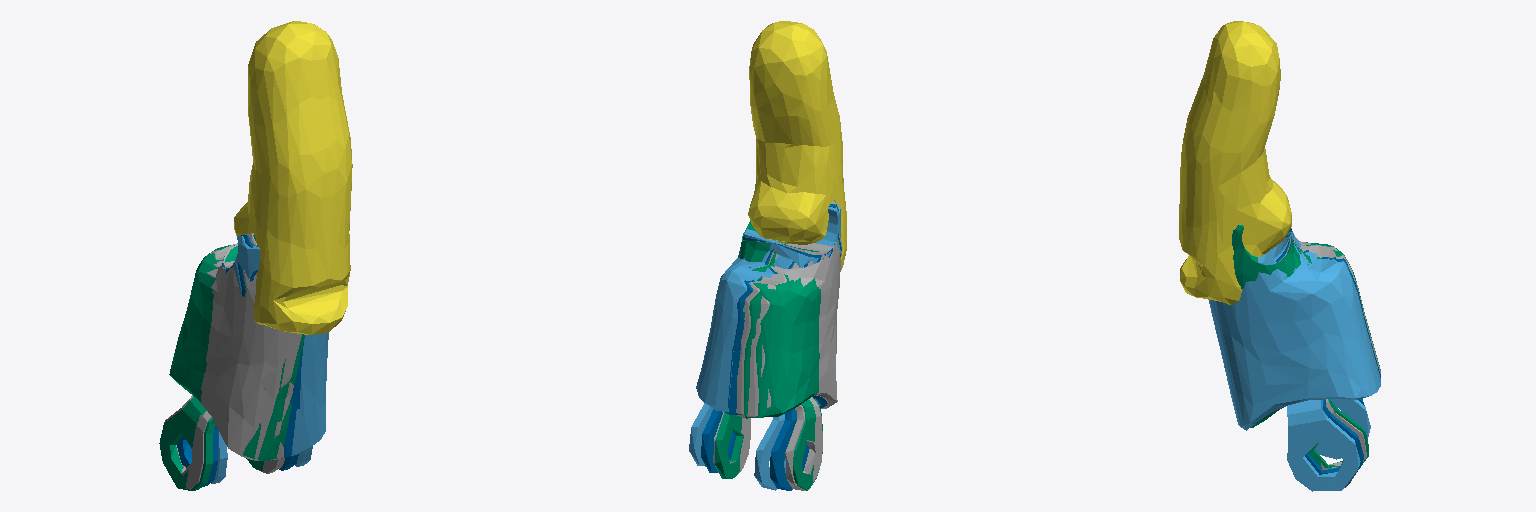
URDF robot description (ability_hand):
<?xml version="1.0" encoding="UTF-8"?>
<!--
	NOTES:
	Units:
		Distance: m
		Angles: rad (only option)
		Mass: kg
		Inertia: kg*m^2
		
	Notes on intertia:
		-The inertias are calculated for uniform density using meshes with weights.
	
	Notes on finger q2:
		-The hand is a 4 bar linkage mechanism forming an 'X'. 4 bar linkages are not supported in the 
		urdf format. The motion of the second finger joint is fully defined by the motion of the first 
		finger joint. The calculation to find the index finger second joint angle given the first is provided
		in a matlab script elsewhere in this repository.
-->
<robot name="ability_hand">
   <link name="base">
      <visual name="wrist_mesh">
         <origin rpy="0 0 0" xyz="0 0 0" />
         <geometry>
            <mesh filename="models/wristmesh.STL" />
         </geometry>
      </visual>
      <inertial>
         <mass value="0.37511000" />
         <inertia ixx="3.76723021e-04" ixy="-2.33895460e-06" ixz="6.04325119e-06" iyy="4.67706269e-04" iyz="5.04572726e-05" izz="1.77650714e-04" />
         <origin xyz="6.54520000e-04 -5.98838000e-03 5.07726500e-02" rpy="0 0 0" />
      </inertial>
      <visual name="palm_mesh">
         <origin rpy="3.14148426 -0.08848813 -3.14036612" xyz="-24.0476665e-3 3.78124745e-3 32.32964923e-3" />
         <geometry>
            <mesh filename="models/FB_palm_ref_MIR.STL" />
         </geometry>
      </visual>
      <collision name="palm_mesh_coll">
         <origin rpy="3.14148426 -0.08848813 -3.14036612" xyz="-24.0476665e-3 3.78124745e-3 32.32964923e-3" />
         <geometry>
            <mesh filename="models/palm_hull_mir.STL" />
         </geometry>
      </collision>
   </link>
   <link name="index_L1">
      <inertial>
         <mass value="0.00636000" />
         <inertia ixx="2.85169621e-07" ixy="1.21454801e-08" ixz="2.02098452e-09" iyy="9.77683041e-07" iyz="-2.87547802e-10" izz="1.05411544e-06" />
         <origin xyz="1.77549969e-02 -2.13867669e-04 -2.02851433e-05" rpy="0 0 0" />
      </inertial>
      <visual name="index_mesh_1">
         <origin rpy="0 0 0" xyz="0 0 0" />
         <geometry>
            <mesh filename="models/idx-F1.STL" />
         </geometry>
      </visual>
      <collision name="index_mesh_coll_1">
         <origin rpy="0 0 0.0844739" xyz="0.0384727 0.0032577 0" />
         <geometry>
            <mesh filename="models/idx-F1-hull.STL" />
         </geometry>
      </collision>
   </link>
   <link name="index_L2">
      <inertial>
         <mass value="0.00600000" />
         <inertia ixx="4.06340451e-07" ixy="3.99862338e-07" ixz="-1.91966414e-09" iyy="9.13745257e-07" iyz="8.96846813e-10" izz="1.13382499e-06" />
         <origin xyz="1.52723400e-02 -1.00039197e-02 -3.11063902e-05" rpy="0 0 0" />
      </inertial>
      <visual name="index_mesh_2">
         <origin rpy="0 0 0" xyz="0 0 0" />
         <geometry>
            <mesh filename="models/idx-F2-Lg.STL" />
         </geometry>
      </visual>
      <collision name="index_mesh_coll_2">
         <origin rpy="0 0 0" xyz="0.0091241 0 0" />
         <geometry>
            <mesh filename="models/idx-F2-Lg-hull.STL" />
         </geometry>
      </collision>
   </link>
   <joint name="index_q1" type="revolute">
      <parent link="base" />
      <child link="index_L1" />
      <origin xyz="-2.8e-2 -9e-3 9.6e-2" rpy=" 1.672 -1.317 -1.790 " />
      <axis xyz="0 0 1" />
      <limit lower="0.00" upper="1.74" effort="6.0" velocity="8.0677777442" />
      <dynamics damping="0.001" friction="0.001" />
   </joint>
   <joint name="index_q2" type="revolute">
      <parent link="index_L1" />
      <child link="index_L2" />
      <origin xyz="38.472723e-3 3.257695e-3 0.000000e-3" rpy="0 0 0.766" />
      <axis xyz="0 0 1" />
      <limit lower="0.00" upper="1.844" effort="6.0" velocity="8.0677777442" />
      <!-- angles in rad, efforts in N-m, velocity in rad/s -->
      <dynamics damping="0.001" friction="0.001" />
      <!-- Friction coefficient is not from quantitative measurement -->
      <mimic joint="index_q1" multiplier="1.05851325" />
   </joint>
   <link name="index_anchor" />
   <joint name="idx_anchor" type="fixed">
      <parent link="index_L2" />
      <child link="index_anchor" />
      <origin rpy="0 0 0" xyz="31.5541e-3  -10.44e-3 0.14e-3" />
   </joint>

   <link name="middle_L1">
      <inertial>
         <mass value="0.00636000" />
         <inertia ixx="2.85169621e-07" ixy="1.21454801e-08" ixz="2.02098452e-09" iyy="9.77683041e-07" iyz="-2.87547802e-10" izz="1.05411544e-06" />
         <origin xyz="1.77549969e-02 -2.13867669e-04 -2.02851433e-05" rpy="0 0 0" />
      </inertial>
      <visual name="middle_mesh_1">
         <origin rpy="0 0 0" xyz="0 0 0" />
         <geometry>
            <mesh filename="models/idx-F1.STL" />
         </geometry>
      </visual>
      <collision name="middle_mesh_coll_1">
         <origin rpy="0 0 0.0844739" xyz="0.0384727 0.0032577 0" />
         <geometry>
            <mesh filename="models/idx-F1-hull.STL" />
         </geometry>
      </collision>
   </link>
   <link name="middle_L2">
      <inertial>
         <mass value="0.00600000" />
         <inertia ixx="4.06340451e-07" ixy="3.99862338e-07" ixz="-1.91966414e-09" iyy="9.13745257e-07" iyz="8.96846813e-10" izz="1.13382499e-06" />
         <origin xyz="1.52723400e-02 -1.00039197e-02 -3.11063902e-05" rpy="0 0 0" />
      </inertial>
      <visual name="middle_mesh_2">
         <origin rpy="0 0 0" xyz="0 0 0" />
         <geometry>
            <mesh filename="models/idx-F2-Lg.STL" />
         </geometry>
      </visual>
      <collision name="middle_mesh_coll_2">
         <origin rpy="0 0 0" xyz="0.0091241 0 0" />
         <geometry>
            <mesh filename="models/idx-F2-Lg-hull.STL" />
         </geometry>
      </collision>
   </link>
   <joint name="middle_q1" type="revolute">
      <parent link="base" />
      <child link="middle_L1" />
      <origin xyz=" -0.008 -0.012 0.099 " rpy=" 1.513 -1.322 -1.558 " />
      <limit lower="0.00" upper="1.74" effort="6.0" velocity="8.0677777442" />
      <dynamics damping="0.001" friction="0.001" />
      <axis xyz="0 0 1" />
   </joint>
   <joint name="middle_q2" type="revolute">
      <parent link="middle_L1" />
      <child link="middle_L2" />
      <origin xyz="38.472723e-3 3.257695e-3 0.000000" rpy="0 0 0.766" />
      <axis xyz="0 0 1" />
      <limit lower="0.00" upper="1.844" effort="6.0" velocity="8.0677777442" />
      <!-- angles in rad, efforts in N-m, velocity in rad/s -->
      <dynamics damping="0.001" friction="0.001" />
      <!-- Friction coefficient is not from quantitative measurement -->
      <mimic joint="middle_q1" multiplier="1.05851325" />
   </joint>
   <link name="middle_anchor" />
   <joint name="mid_anchor" type="fixed">
      <parent link="middle_L2" />
      <child link="middle_anchor" />
      <origin rpy="0 0 0" xyz="31.5541e-3  -10.44e-3 0.14e-3" />
   </joint>

   <link name="ring_L1">
      <inertial>
         <mass value="0.00636000" />
         <inertia ixx="2.85169621e-07" ixy="1.21454801e-08" ixz="2.02098452e-09" iyy="9.77683041e-07" iyz="-2.87547802e-10" izz="1.05411544e-06" />
         <origin xyz="1.77549969e-02 -2.13867669e-04 -2.02851433e-05" rpy="0 0 0" />
      </inertial>
      <visual name="ring_mesh_1">
         <origin rpy="0 0 0" xyz="0 0 0" />
         <geometry>
            <mesh filename="models/idx-F1.STL" />
         </geometry>
      </visual>
      <collision name="ring_mesh_coll_1">
         <origin rpy="0 0 0.0844739" xyz="0.0384727 0.0032577 0" />
         <geometry>
            <mesh filename="models/idx-F1-hull.STL" />
         </geometry>
      </collision>
   </link>
   <link name="ring_L2">
      <inertial>
         <mass value="0.00600000" />
         <inertia ixx="4.06340451e-07" ixy="3.99862338e-07" ixz="-1.91966414e-09" iyy="9.13745257e-07" iyz="8.96846813e-10" izz="1.13382499e-06" />
         <origin xyz="1.52723400e-02 -1.00039197e-02 -3.11063902e-05" rpy="0 0 0" />
      </inertial>
      <visual name="ring_mesh_2">
         <origin rpy="0 0 0" xyz="0 0 0" />
         <geometry>
            <mesh filename="models/idx-F2-Lg.STL" />
         </geometry>
      </visual>
      <collision name="ring_mesh_coll_2">
         <origin rpy="0 0 0" xyz="0.0091241 0 0" />
         <geometry>
            <mesh filename="models/idx-F2-Lg-hull.STL" />
         </geometry>
      </collision>
   </link>
   <joint name="ring_q1" type="revolute">
      <parent link="base" />
      <child link="ring_L1" />
      <origin xyz=" 0.012 -0.010 0.097 " rpy=" 1.361 -1.315 -1.330 " />
      <limit lower="0.00" upper="1.74" effort="6.0" velocity="8.0677777442" />
      <dynamics damping="0.001" friction="0.001" />
      <axis xyz="0 0 1" />
   </joint>
   <joint name="ring_q2" type="revolute">
      <parent link="ring_L1" />
      <child link="ring_L2" />
      <origin xyz="38.472723e-3 3.257695e-3 0.000000" rpy="0 0 0.766" />
      <axis xyz="0 0 1" />
      <limit lower="0.00" upper="1.844" effort="6.0" velocity="8.0677777442" />
      <!-- angles in rad, efforts in N-m, velocity in rad/s -->
      <dynamics damping="0.001" friction="0.001" />
      <!-- Friction coefficient is not from quantitative measurement -->
      <mimic joint="ring_q1" multiplier="1.05851325" />
   </joint>
   <link name="ring_anchor" />
   <joint name="rng_anchor" type="fixed">
      <parent link="ring_L2" />
      <child link="ring_anchor" />
      <origin rpy="0 0 0" xyz="31.5541e-3  -10.44e-3 0.14e-3" />
   </joint>

   <link name="pinky_L1">
      <inertial>
         <mass value="0.00636000" />
         <inertia ixx="2.85169621e-07" ixy="1.21454801e-08" ixz="2.02098452e-09" iyy="9.77683041e-07" iyz="-2.87547802e-10" izz="1.05411544e-06" />
         <origin xyz="1.77549969e-02 -2.13867669e-04 -2.02851433e-05" rpy="0 0 0" />
      </inertial>
      <visual name="pinky_mesh_1">
         <origin rpy="0 0 0" xyz="0 0 0" />
         <geometry>
            <mesh filename="models/idx-F1.STL" />
         </geometry>
      </visual>
      <collision name="pinky_mesh_coll_1">
         <origin rpy="0 0 0.0844739" xyz="0.0384727 0.0032577 0" />
         <geometry>
            <mesh filename="models/idx-F1-hull.STL" />
         </geometry>
      </collision>
   </link>
   <link name="pinky_L2">
      <inertial>
         <mass value="0.00600000" />
         <inertia ixx="3.07970159e-07" ixy="2.80921010e-07" ixz="-2.72117073e-09" iyy="7.40775495e-07" iyz="1.08144438e-09" izz="8.93728844e-07" />
         <origin xyz="1.33249215e-02 -8.15894775e-03 -4.07689501e-05" rpy="0 0 0" />
      </inertial>
      <visual name="pinky_mesh_2">
         <origin rpy="0 0 0" xyz="0 0 0" />
         <geometry>
            <mesh filename="models/idx-F2.STL" />
         </geometry>
      </visual>
      <collision name="pinky_mesh_coll_2">
         <origin rpy="0 0 0" xyz="0.0091241 0 0" />
         <geometry>
            <mesh filename="models/idx-F2-hull.STL" />
         </geometry>
      </collision>
   </link>
   <joint name="pinky_q1" type="revolute">
      <parent link="base" />
      <child link="pinky_L1" />
      <origin xyz=" 0.031 -0.007 0.091 " rpy=" 1.410 -1.315 -1.313 " />
      <limit lower="0.00" upper="1.74" effort="6.0" velocity="8.0677777442" />
      <dynamics damping="0.001" friction="0.001" />
      <axis xyz="0 0 1" />
   </joint>
   <joint name="pinky_q2" type="revolute">
      <parent link="pinky_L1" />
      <child link="pinky_L2" />
      <origin xyz="38.472723e-3 3.257695e-3 0.000000" rpy="0 0 0.766" />
      <limit lower="0.00" upper="1.844" effort="6.0" velocity="8.0677777442" />
      <!-- angles in rad, efforts in N-m, velocity in rad/s -->
      <dynamics damping="0.001" friction="0.001" />
      <!-- Friction coefficient is not from quantitative measurement -->
      <axis xyz="0 0 1" />
      <mimic joint="pinky_q1" multiplier="1.05851325" />
   </joint>
   <link name="pinky_anchor" />
   <joint name="pnky_anchor" type="fixed">
      <parent link="pinky_L2" />
      <child link="pinky_anchor" />
      <origin rpy="0 0 0" xyz="31.5541e-3  -10.44e-3 0.14e-3" />
   </joint>

   <link name="thumb_L1">
      <inertial>
         <mass value="0.00200000" />
         <inertia ixx="1.19399127e-07" ixy="1.99799715e-08" ixz="-6.88490629e-08" iyy="2.50792788e-07" iyz="8.36717975e-09" izz="2.02280286e-07" />
         <origin xyz="1.42940200e-02 -1.88850000e-03 4.96979000e-03" rpy="0 0 0" />
      </inertial>
      <visual name="thumb_mesh_1">
         <origin rpy="0 0 0" xyz="0 0 0" />
         <geometry>
            <mesh filename="models/thumb-F1-MIR.STL" />
         </geometry>
      </visual>
      <collision name="thumb_coll_mesh_1">
         <origin rpy="1.832596 0 0" xyz="0.0278284 0 0.0147507" />
         <geometry>
            <mesh filename="models/thumb-F1-MIR-hull.STL" />
         </geometry>
      </collision>
   </link>
   <link name="thumb_L2">
      <inertial>
         <mass value="0.06000000" />
         <inertia ixx="8.10858569e-06" ixy="-7.50865328e-06" ixz="-6.23786727e-08" iyy="2.16060955e-05" iyz="-1.00037755e-07" izz="2.58546348e-05" />
         <origin xyz="2.77624500e-02 5.62171000e-03 3.76111000e-03" rpy="0 0 0" />
      </inertial>
      <visual name="thumb_mesh_2">
         <origin rpy="0 0 0" xyz="0 0 0" />
         <geometry>
            <mesh filename="models/thumb-F2-right.STL" />
         </geometry>
      </visual>
      <collision name="thumb_hull_mesh_2">
         <origin rpy="-3.141592 0 0.3438291" xyz="0.0651867 0.0233402 0.00393483" />
         <geometry>
            <mesh filename="models/thumb-F2-hull.STL" />
         </geometry>
      </collision>
   </link>
   <joint name="thumb_q1" type="revolute">
      <parent link="base" />
      <child link="thumb_L1" />
      <origin xyz="-24.0476665e-3 3.78124745e-3 32.32964923e-3" rpy="-0.01675973 -0.08689062 -2.95079797" />
      <axis xyz="0 0 1" />
      <limit lower="-1.74" upper="0" effort="1.2" velocity="40.338888721" />
      <!-- angles in rad, efforts in N-m, velocity in rad/s -->
      <dynamics damping="0.001" friction="0.001" />
      <!-- Friction coefficient is not from quantitative measurement -->
   </joint>
   <joint name="thumb_q2" type="revolute">
      <parent link="thumb_L1" />
      <child link="thumb_L2" />
      <origin xyz=" 27.8283501e-3 1.7436510745838653e-19 14.7507e-3 " rpy=" 1.832595714594045 -0.0 5.366520605522463e-18 " />
      <axis xyz="0 0 1" />
      <limit lower="0.00" upper="1.74" effort="6.0" velocity="8.0677777442" />
      <!-- angles in rad, efforts in N-m, velocity in rad/s -->
      <dynamics damping="0.001" friction="0.001" />
      <!-- Friction coefficient is not from quantitative measurement -->
   </joint>
   <link name="thumb_anchor" />
   <joint name="thmb_anchor" type="fixed">
      <parent link="thumb_L2" />
      <child link="thumb_anchor" />
      <origin rpy="0 0 0" xyz="52.00122724e-3 28.00869333e-3 6.98483578e-3" />
   </joint>

</robot>

--- Facts derived from the render (not from the file) ---
Views: 3 orthographic renders of the robot side by side, from view 1: azimuth 30°, elevation 25°; view 2: azimuth 150°, elevation 25°; view 3: azimuth 270°, elevation 25°.
Robot: ability_hand — 16 links, 15 joints (10 revolute, 5 fixed); root link base; default pose: all joints at 0.
Links seen in each view (by area): view 1: pinky_L2, ring_L1, pinky_L1, index_L1, middle_L1; view 2: pinky_L2, pinky_L1, ring_L1, index_L1, middle_L1; view 3: index_L1, pinky_L2, pinky_L1, ring_L1, middle_L1.
Link boxes in pixels (x1,y1,x2,y2): pinky_L2: (234,21,352,334); ring_L1: (164,233,301,489); pinky_L1: (159,235,304,490); index_L1: (211,236,328,483); middle_L1: (177,235,303,486); pinky_L2: (748,21,846,269); pinky_L1: (715,191,834,490); ring_L1: (713,201,841,490); index_L1: (689,205,840,490); middle_L1: (701,204,841,490); index_L1: (1208,228,1380,491); pinky_L2: (1179,21,1291,304); pinky_L1: (1232,225,1380,468); ring_L1: (1236,227,1380,469); middle_L1: (1257,229,1380,474).
Size in the robot's own frame: 20.12 by 31.04 by 76.02 metres.
Meshes: 7 distinct files referenced, 8 mesh visuals loaded (3 binary STL); not drawn: 4 (reference not matched to a file when rendering).